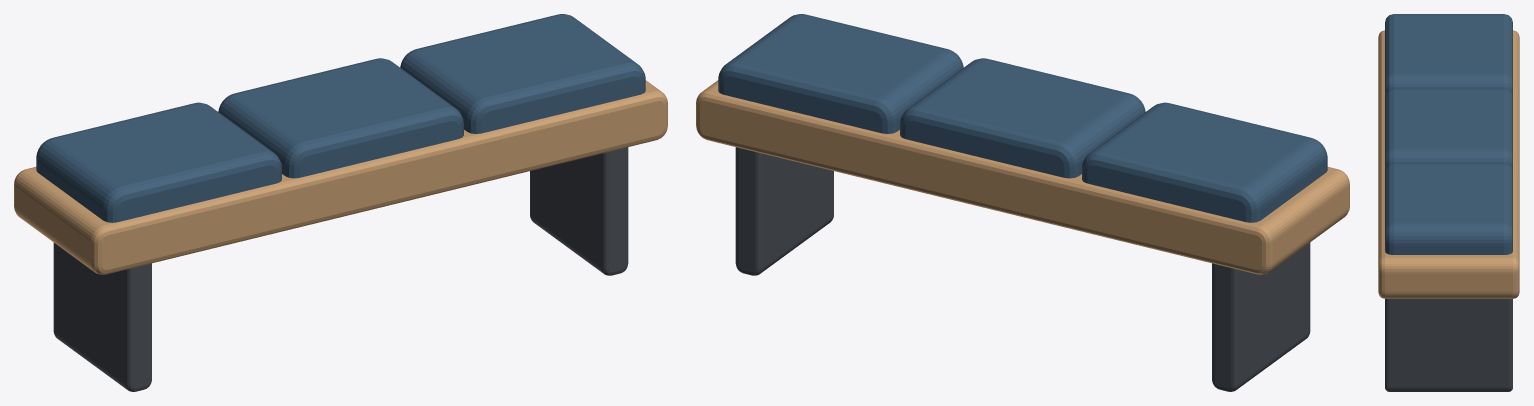
The model's file is waiting_bench.glb.
3 renders of one model, left to right at view 1: azimuth 30°, elevation 25°; view 2: azimuth 150°, elevation 25°; view 3: azimuth 270°, elevation 25°, orthographic. The views are drawn at different scales.
Visible parts, largest first — view 1: waiting_bench_refined; view 2: waiting_bench_refined; view 3: waiting_bench_refined.
Boxes of the visible parts, x1,y1,x2,y2 form: waiting_bench_refined: (14, 14, 667, 391); waiting_bench_refined: (696, 14, 1349, 391); waiting_bench_refined: (1378, 14, 1519, 391).
Bounding box in the file's own units: 1.74 × 0.594 × 0.44.
